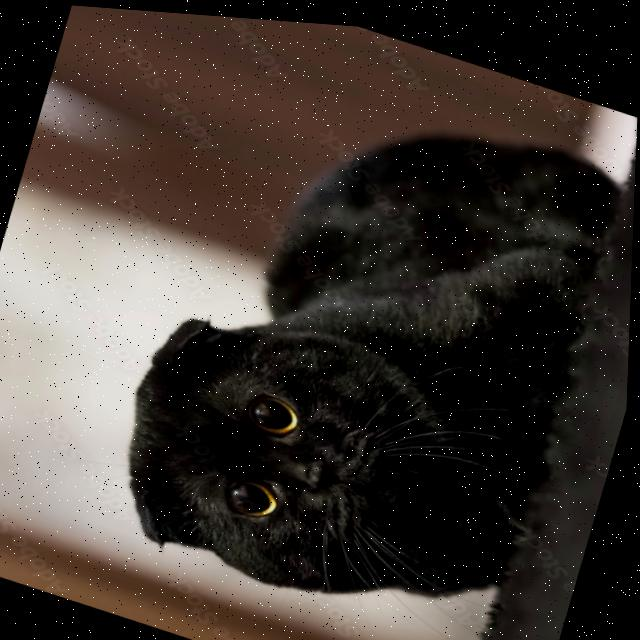Scottish Fold: (88, 28, 635, 640)
